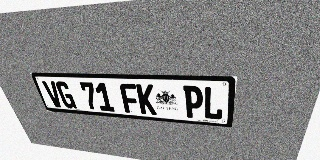1: (93, 82, 115, 112)
7: (78, 82, 100, 111)
F: (119, 83, 140, 114)
G: (54, 81, 77, 109)
K: (136, 84, 157, 115)
L: (203, 86, 225, 120)
P: (183, 85, 203, 119)
V: (42, 81, 64, 108)
